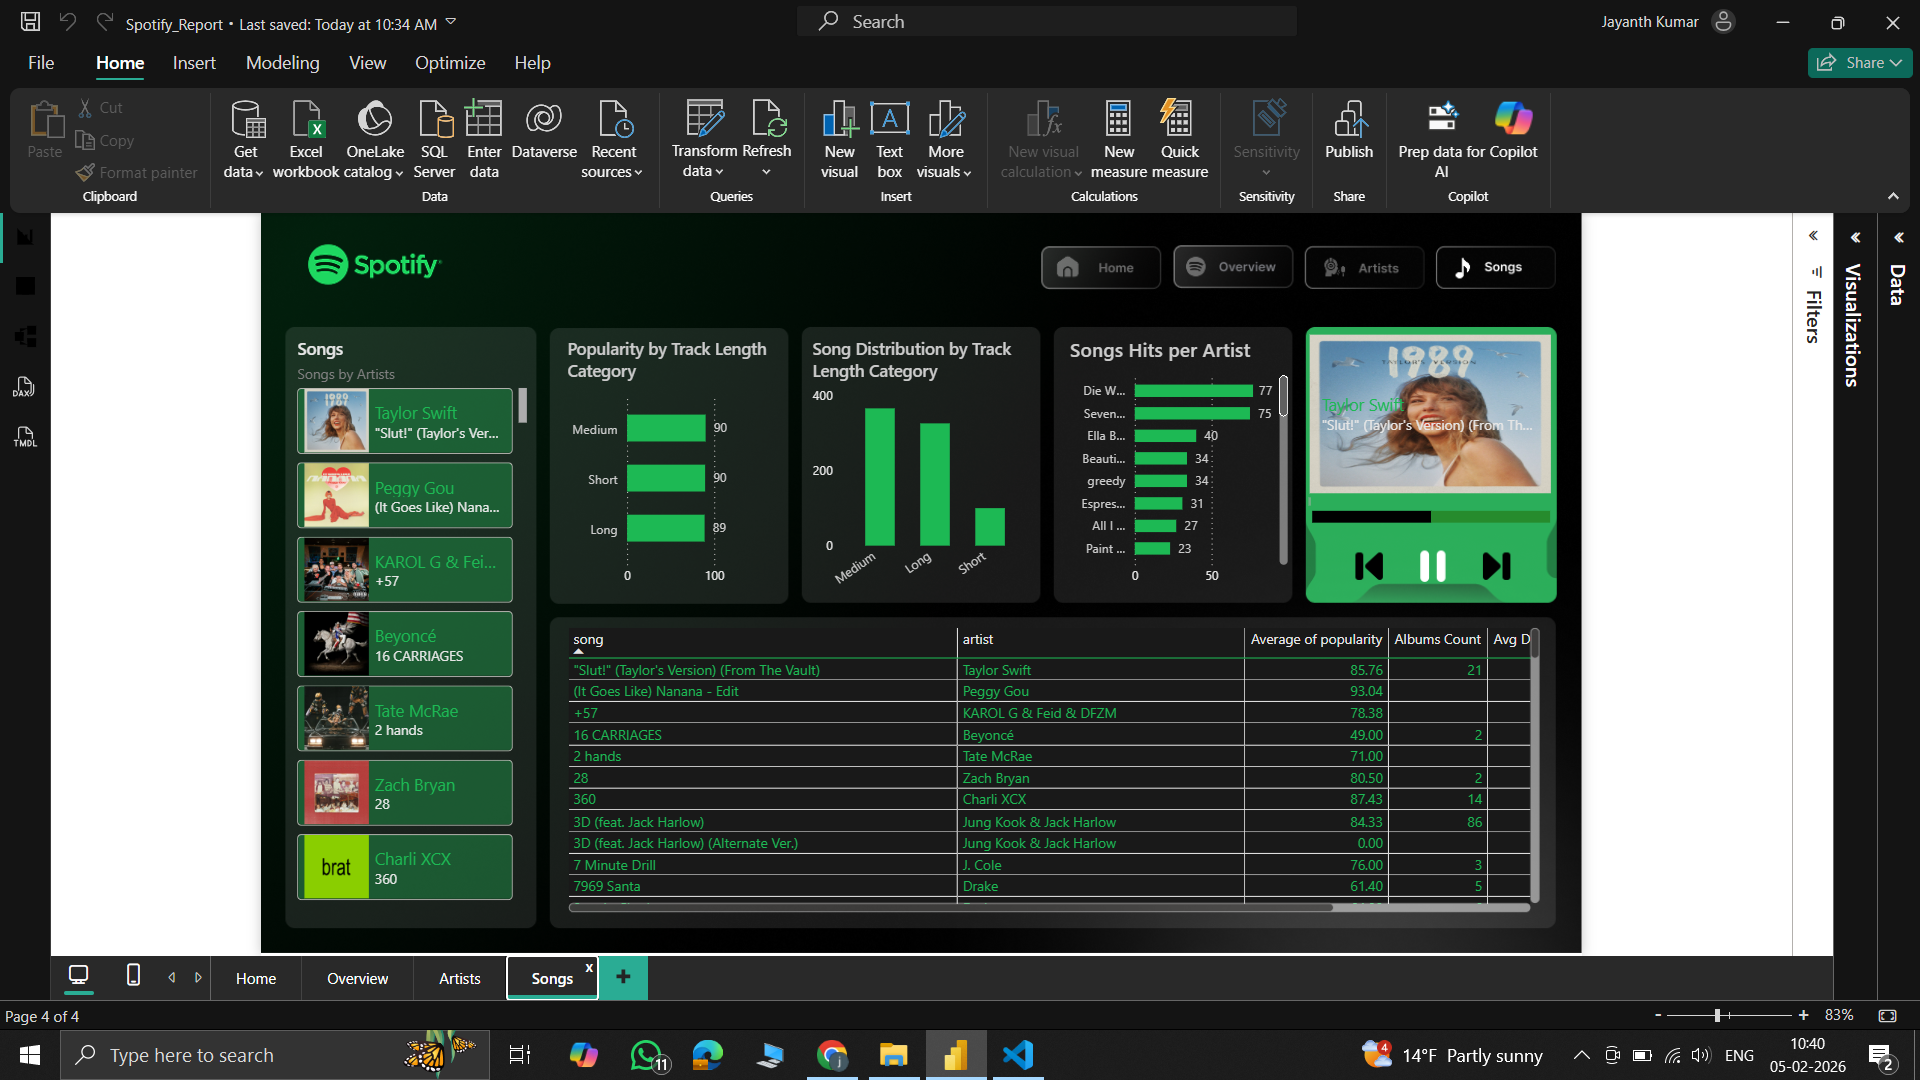

This screenshot's page, from the dashboard's own definition file:
{"tool":"powerbi","page":{"name":"Songs","canvas":[1280,720],"ordinal":3},"visuals":[{"type":"actionButton","box":[760.3,33,120,42.5],"z":0},{"type":"actionButton","box":[880,32.5,120,42.5],"z":1000},{"type":"actionButton","box":[1012.8,33,120,42.5],"z":2000},{"type":"actionButton","box":[1142.8,33,120,42.5],"z":3000},{"type":"advancedSlicerVisual","title":"Songs","fields":{"Values":["Top-50-World.song"]},"box":[30,120,232.5,553.8],"z":6000},{"type":"advancedSlicerVisual","title":"Songs","fields":{"Values":["Top-50-World.song"]},"box":[1010,111.7,246.5,179.4],"z":7000},{"type":"hundredPercentStackedBarChart","fields":{"Y":["_Measures.Avg Popularity","Avg(Top-50-World.popularity)"]},"box":[1013.6,260.6,240.4,61],"z":8000},{"type":"image","box":[1176.2,326.3,40,30],"z":9000},{"type":"image","box":[1052.9,326.3,40,30],"z":10000},{"type":"image","box":[1114.6,326.3,40,30],"z":11000},{"type":"shape","box":[1001.2,102.5,266.2,280],"z":12000},{"type":"clusteredBarChart","title":"Popularity by Track Length Category","fields":{"Category":["Top-50-World.Track Length Bucket"],"Y":["_Measures.Avg Popularity"]},"box":[291.2,120,221.2,250],"z":12001},{"type":"columnChart","title":"Song Distribution by Track Length Category ","fields":{"Category":["Top-50-World.Track Length Bucket"],"Y":["Count(Top-50-World.song)"]},"box":[528.8,120,221.2,262.5],"z":12002},{"type":"tableEx","fields":{"Values":["Top-50-World.song","Top-50-World.artist","Avg(Top-50-World.popularity)","_Measures.Albums Count","_Measures.Avg Duration Minutes","_Measures.Avg Tracks per Album"]},"box":[291.2,397.5,951.2,285],"z":12003},{"type":"clusteredBarChart","title":"Songs Hits per Artist","fields":{"Category":["Top-50-World.song"],"Y":["_Measures.Position1 Hits per Artist"]},"box":[778.8,120,221.2,250],"z":12004}]}

Visuals, with their boxes on the page's 1280x720 design canvas (x1, y1, x2, y2). These are canvas units, not pixel positions in the 1920x1080 screenshot, which may show the page scaled, cropped or inside an application window:
actionButton: 760,33,880,76
actionButton: 880,32,1000,75
actionButton: 1013,33,1133,76
actionButton: 1143,33,1263,76
"Songs" advancedSlicerVisual: 30,120,262,674
"Songs" advancedSlicerVisual: 1010,112,1256,291
hundredPercentStackedBarChart - _Measures.Avg Popularity x Avg(Top-50-World.popularity): 1014,261,1254,322
image: 1176,326,1216,356
image: 1053,326,1093,356
image: 1115,326,1155,356
shape: 1001,102,1267,382
"Popularity by Track Length Category" clusteredBarChart: 291,120,512,370
"Song Distribution by Track Length Category " columnChart: 529,120,750,382
tableEx - Top-50-World.song x Top-50-World.artist: 291,398,1242,682
"Songs Hits per Artist" clusteredBarChart: 779,120,1000,370
